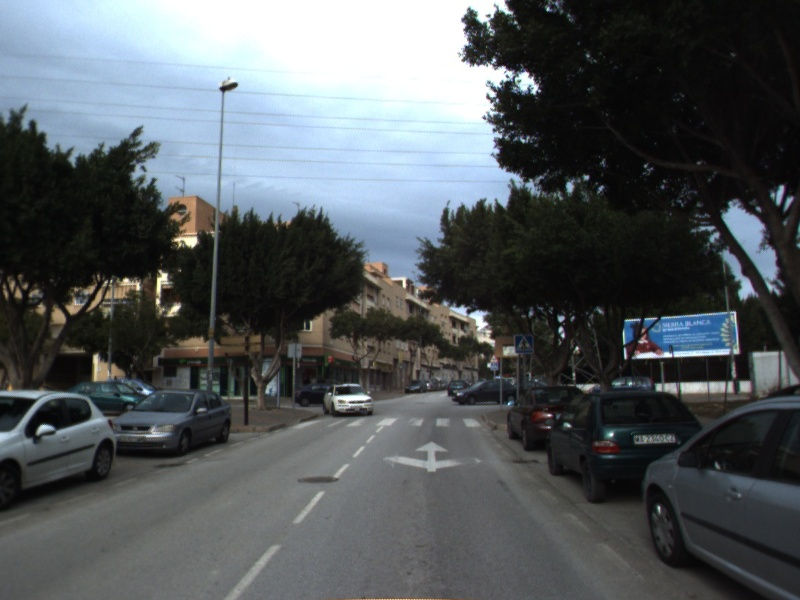STRAIGHT_LEFT_RIGHT: (381, 438, 485, 474)
